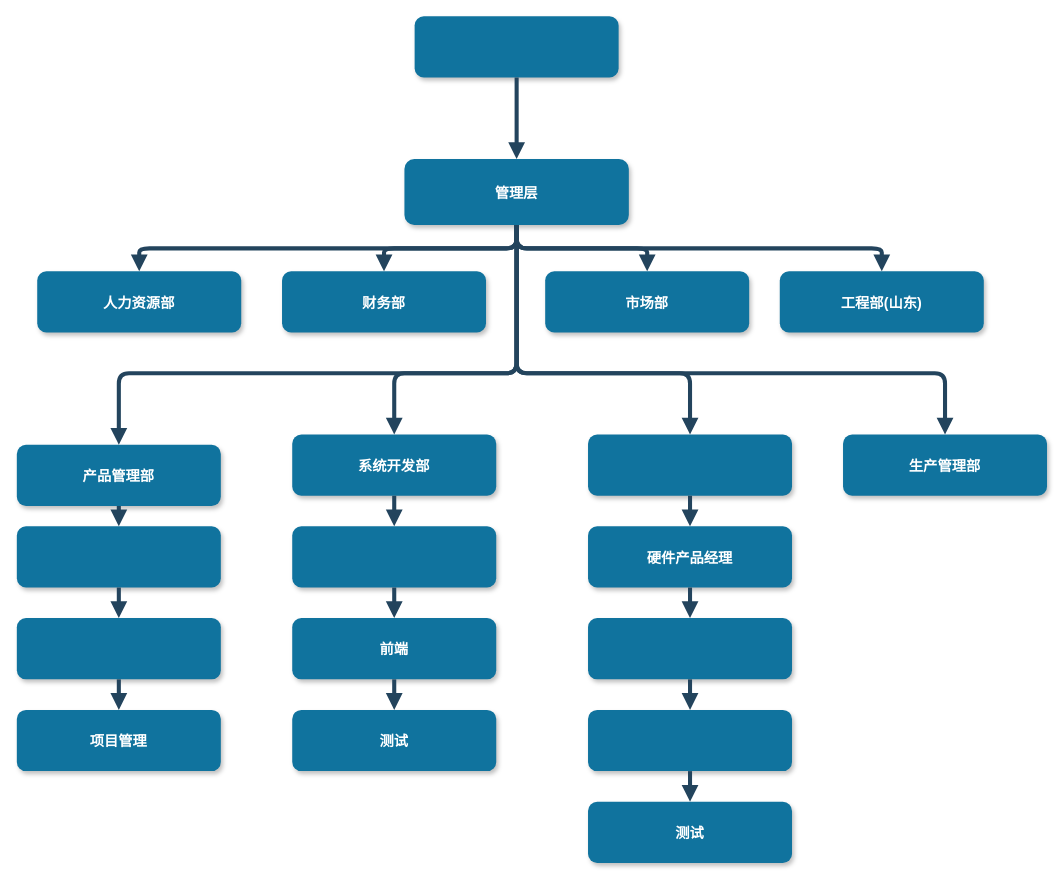
The diagram is 1064 pixels wide and 879 high, and some of its shapes have lost their labels. The centre of each missing label's shape, as x and y in pixels:
"UI/UE" goes at (x=119, y=650).
"后端" goes at (x=395, y=558).
"嵌入式" goes at (x=690, y=741).
"平台产品经理" goes at (x=119, y=558).
"电子" goes at (x=690, y=650).
"终端开发部" goes at (x=690, y=466).
"股东会" goes at (x=517, y=48).
